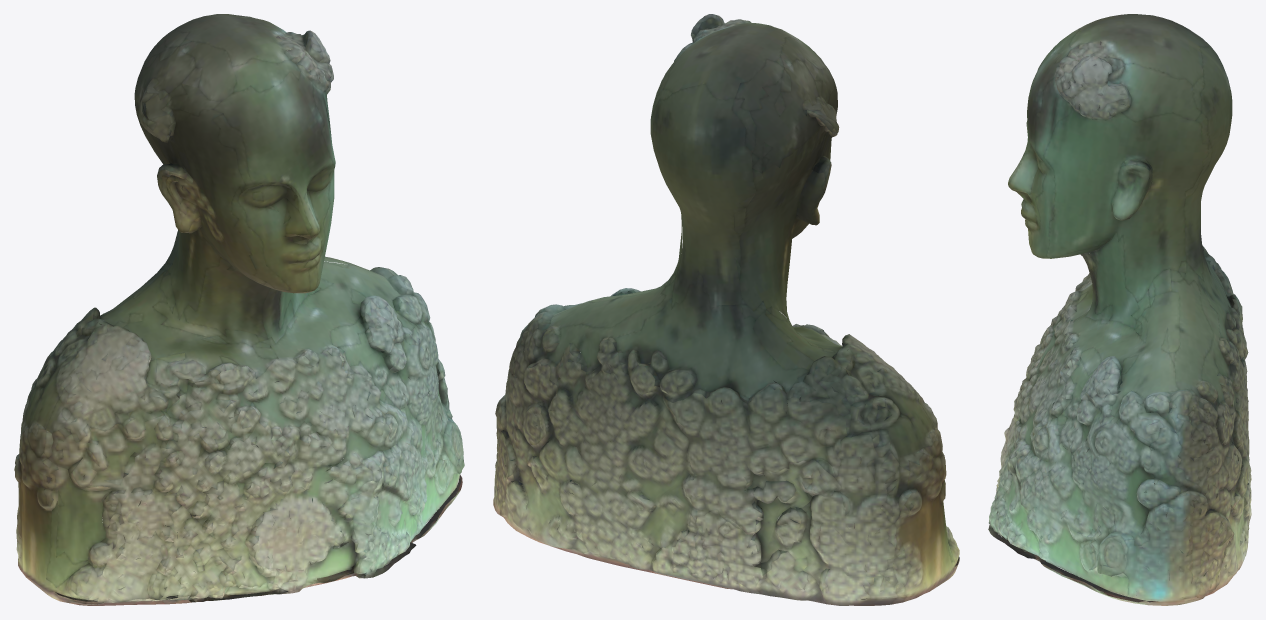
File: 7baotangntst.glb
3 views of the same model, side by side, from view 1: azimuth 30°, elevation 25°; view 2: azimuth 150°, elevation 25°; view 3: azimuth 270°, elevation 25° (orthographic). The views are drawn at different scales.
Visible parts, largest first — view 1: Statue 1.002; view 2: Statue 1.002; view 3: Statue 1.002.
Boxes of the visible parts, left/top/right/bottom form: Statue 1.002: left=14, top=14, right=464, bottom=605; Statue 1.002: left=493, top=14, right=959, bottom=605; Statue 1.002: left=988, top=14, right=1251, bottom=605.
Bounding box in the file's own units: 0.8851 × 0.9995 × 0.4959.
Materials: 1 (1 with a texture image).
